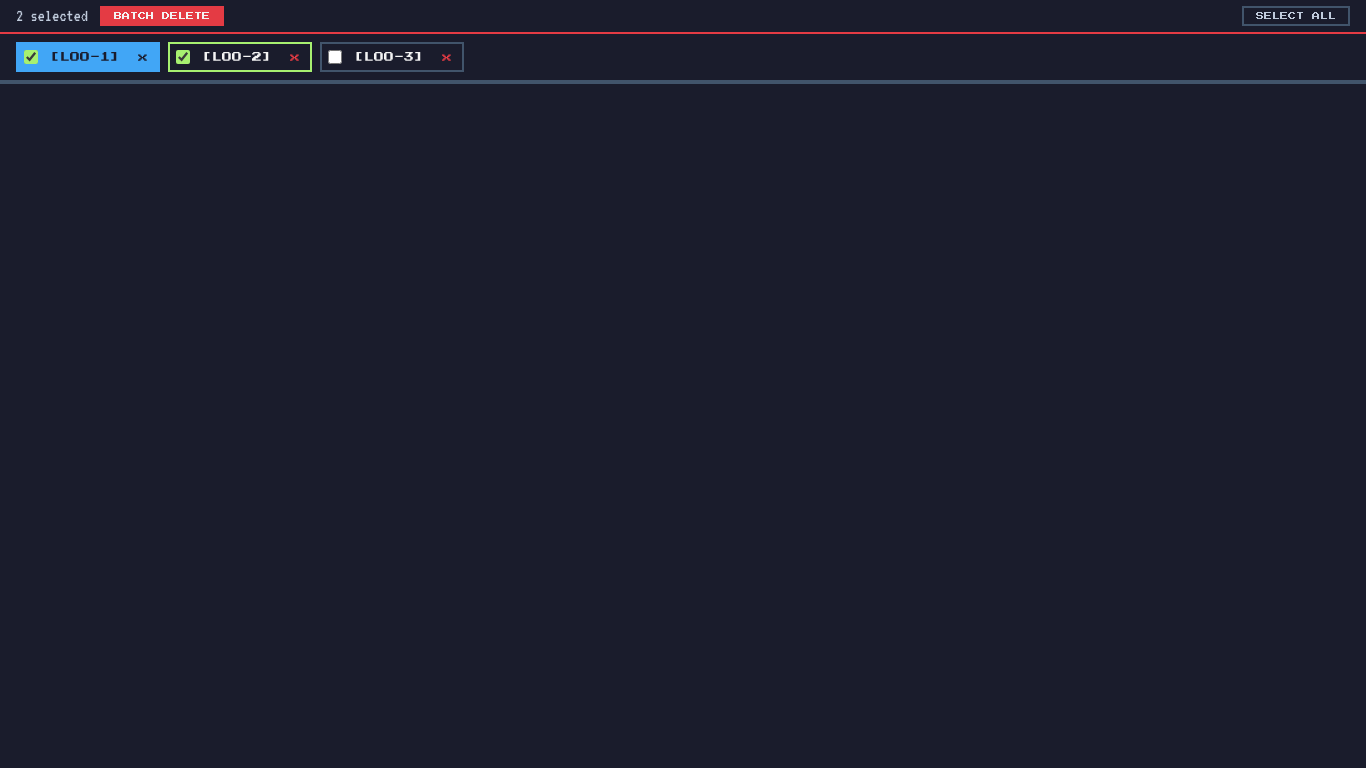
Test: IssueTabs › shows batch confirm dialog when batch delete is clicked
Click the button with test id "batch-delete-btn" at [162, 16], box [100,6,224,26]
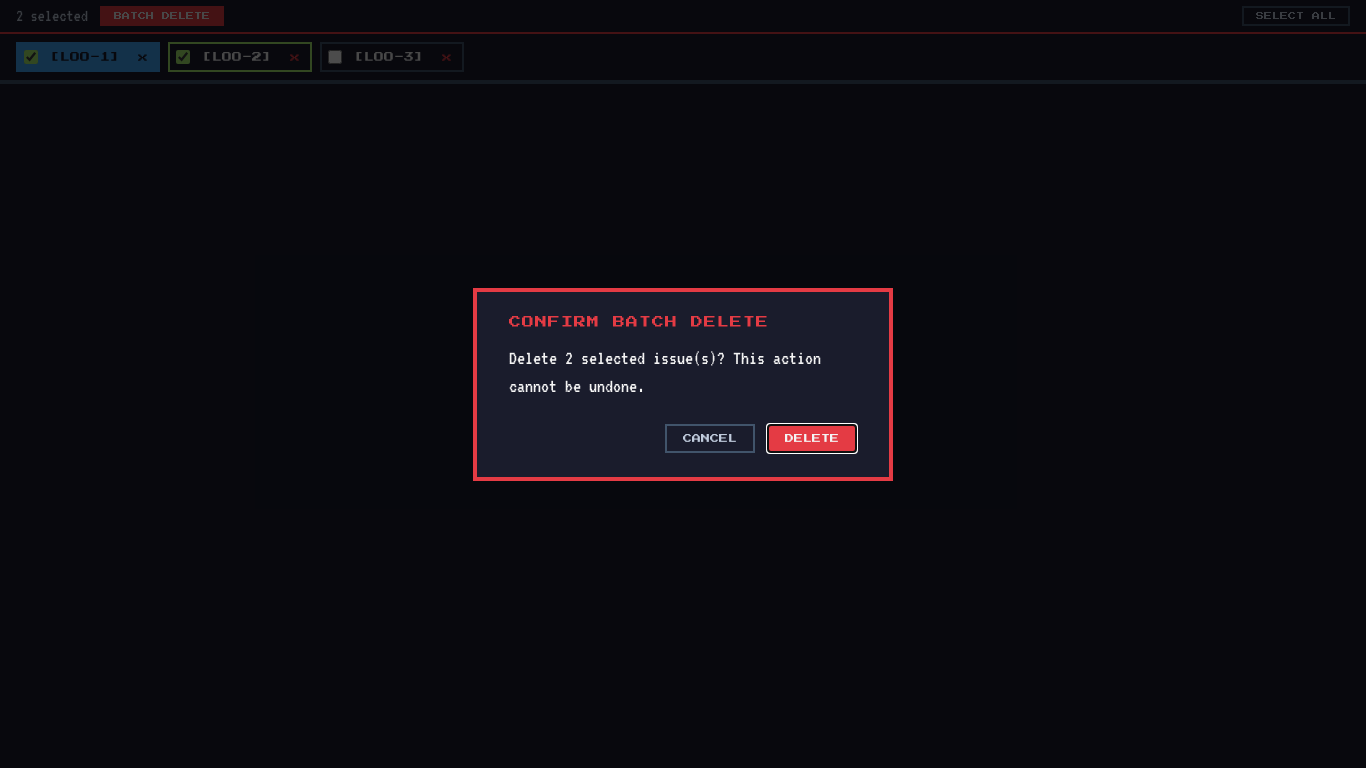
Check: the text "CONFIRM BATCH DELETE" is shown, box [509,316,769,328]
